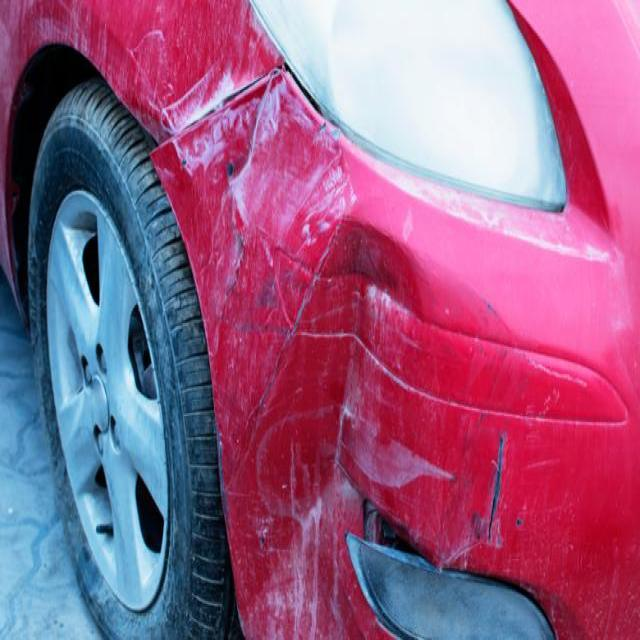Dent: (204, 93, 355, 421), (442, 322, 518, 548), (452, 202, 612, 268), (339, 335, 458, 418), (159, 51, 258, 134), (297, 146, 348, 237), (124, 24, 172, 113), (283, 437, 327, 521), (302, 505, 322, 640), (271, 240, 318, 293), (333, 384, 352, 492), (240, 96, 265, 177), (228, 161, 251, 227), (31, 13, 72, 50), (228, 220, 244, 274), (268, 60, 290, 93), (541, 384, 560, 412), (402, 207, 414, 242), (470, 510, 482, 542), (258, 524, 267, 547), (331, 126, 340, 140), (490, 456, 500, 468), (226, 161, 234, 174), (318, 118, 326, 130), (515, 514, 523, 526), (216, 434, 222, 448), (271, 68, 278, 76), (281, 481, 286, 490), (180, 158, 186, 165)
